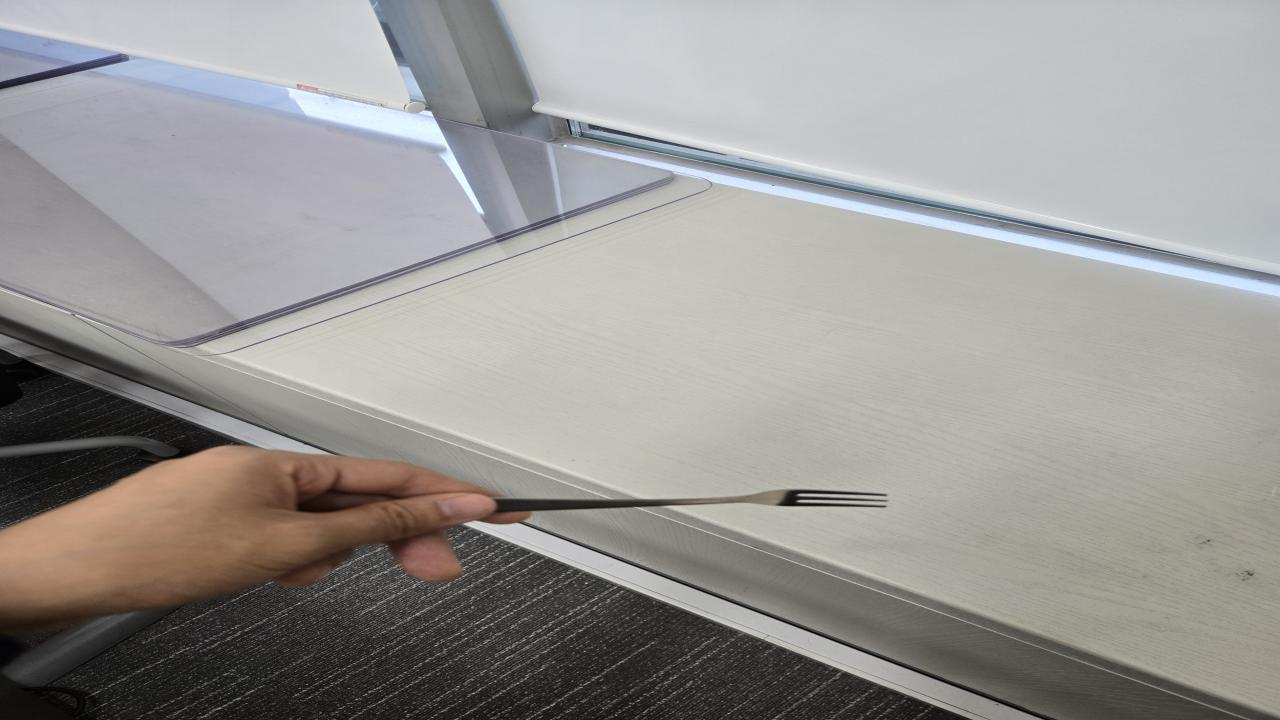fork: (500, 487, 891, 513)
